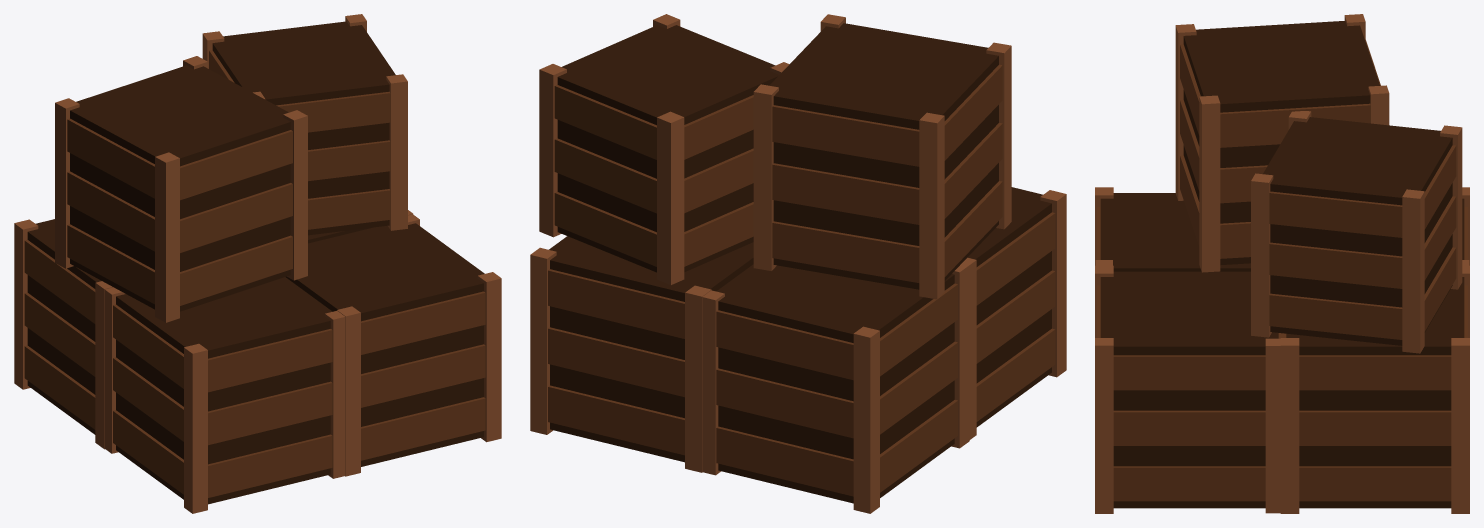
File: crate_stack.glb
3 views of the same model, side by side, from view 1: azimuth 30°, elevation 25°; view 2: azimuth 150°, elevation 25°; view 3: azimuth 270°, elevation 25° (orthographic). The views are drawn at different scales.
Parts seen in each view (by area): view 1: crate_stack; view 2: crate_stack; view 3: crate_stack.
Part boxes in pixels (bbox=[...]): crate_stack: bbox=[14, 14, 501, 513]; crate_stack: bbox=[530, 14, 1066, 513]; crate_stack: bbox=[1095, 14, 1469, 513].
Size of the model in its own units: 1.09 by 1 by 1.01.
